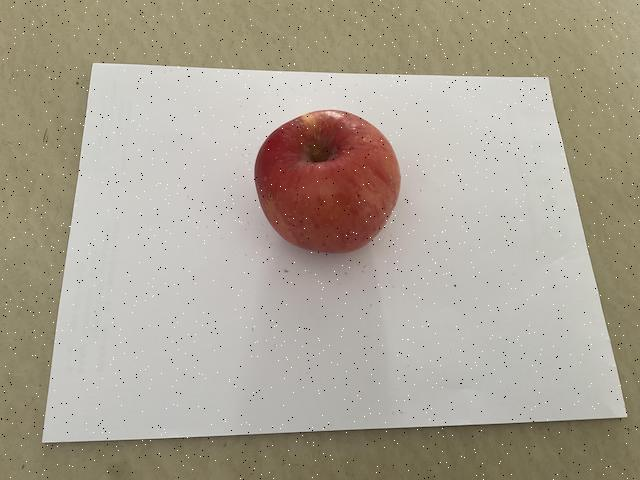apple: (248, 101, 407, 260)
